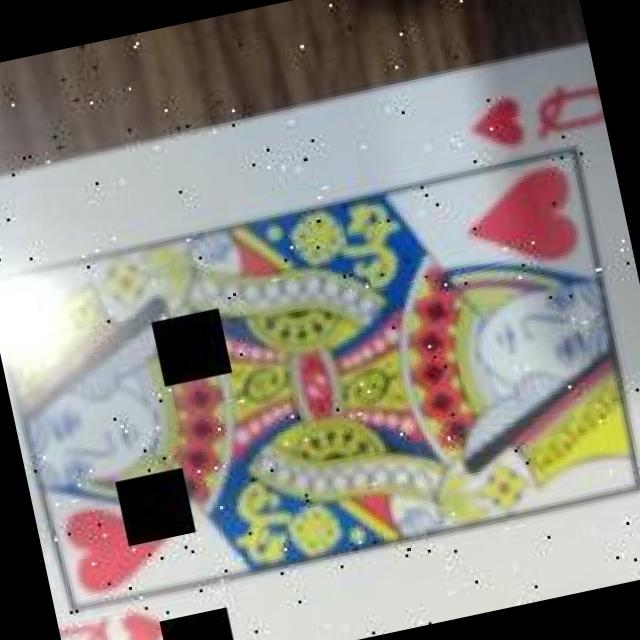Queen of hearts: (0, 41, 640, 640)
